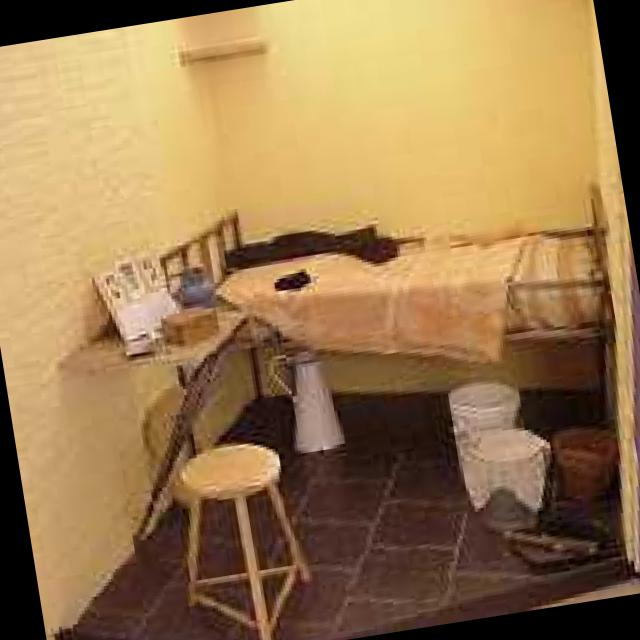berth: (165, 208, 608, 344)
box contants: (166, 304, 222, 340)
bucket crop: (467, 425, 550, 525)
floor -X: (59, 390, 640, 640)
jug: (272, 345, 347, 451)
stool crop: (180, 438, 315, 640)
table -X: (62, 303, 247, 537)
wall clock: (0, 15, 264, 640), (198, 0, 607, 395), (585, 0, 640, 570)
